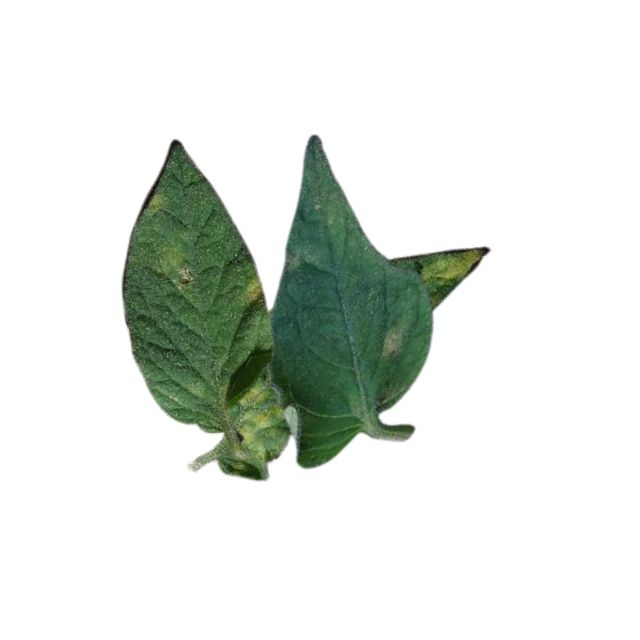Leaf_Mold: (226, 375, 284, 474), (420, 246, 487, 307), (238, 277, 272, 316), (377, 318, 403, 355), (143, 190, 171, 221)
